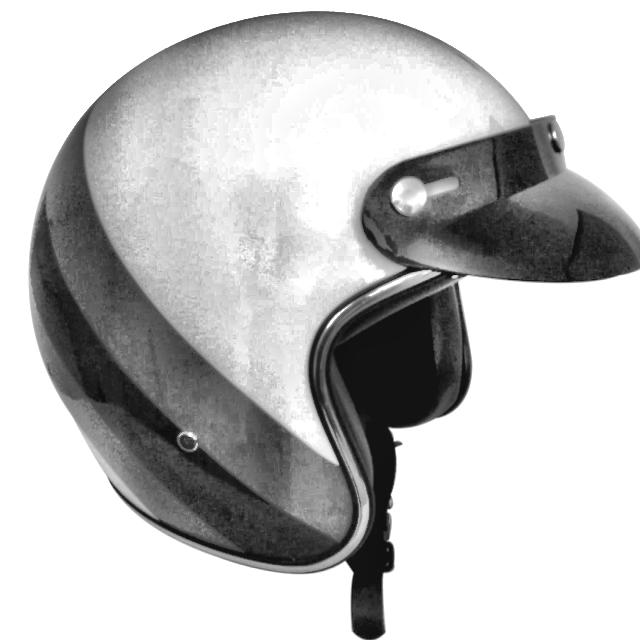Helmet: (19, 8, 640, 639)
